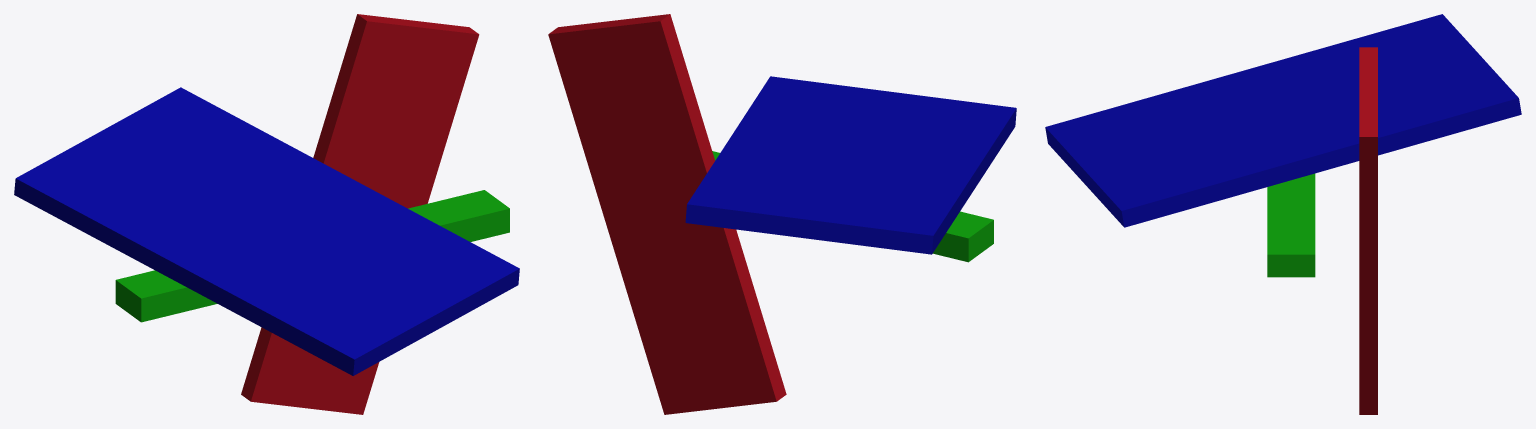
The model's file is boxbox.obj.
The picture shows the model from 3 angles, left to right: view 1: azimuth 30°, elevation 25°; view 2: azimuth 150°, elevation 25°; view 3: azimuth 270°, elevation 25°; orthographic projection. The views are drawn at different scales.
Visible parts, largest first — view 1: Cube.002; view 2: Cube.002; view 3: Cube.002.
Boxes of the visible parts, x1,y1,x2,y2 form: Cube.002: (14, 14, 519, 414); Cube.002: (548, 14, 1016, 414); Cube.002: (1045, 14, 1521, 414).
Size of the model in its own units: 3.75 by 3.36 by 3.93.
